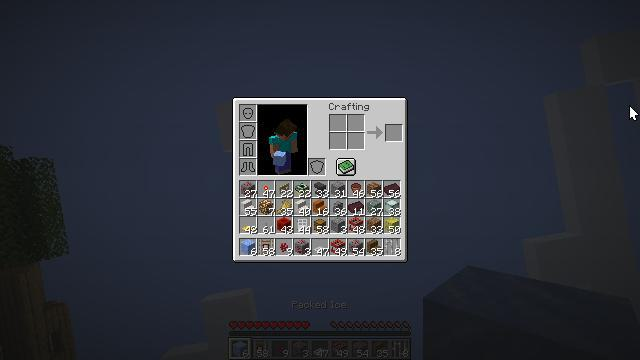cursor: (629, 105, 639, 121)
